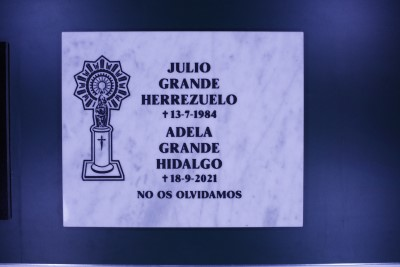lapidas: (61, 32, 303, 227)
